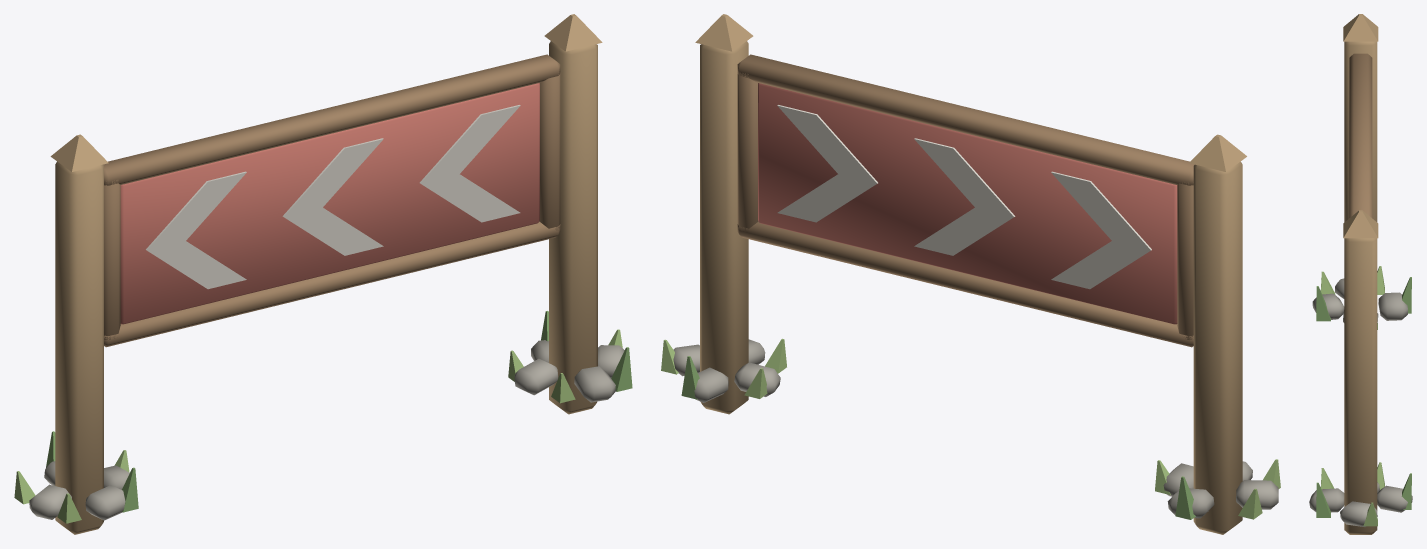
The model's file is chevron_sign.glb.
The picture shows the model from 3 angles, left to right: view 1: azimuth 30°, elevation 25°; view 2: azimuth 150°, elevation 25°; view 3: azimuth 270°, elevation 25°; orthographic projection. The views are drawn at different scales.
Visible parts, largest first — view 1: chevron_sign; view 2: chevron_sign; view 3: chevron_sign.
Boxes of the visible parts, x1,y1,x2,y2 form: chevron_sign: [14, 14, 632, 534]; chevron_sign: [661, 14, 1280, 534]; chevron_sign: [1309, 14, 1412, 534].
Size of the model in its own units: 12.3 by 7.65 by 2.25.
